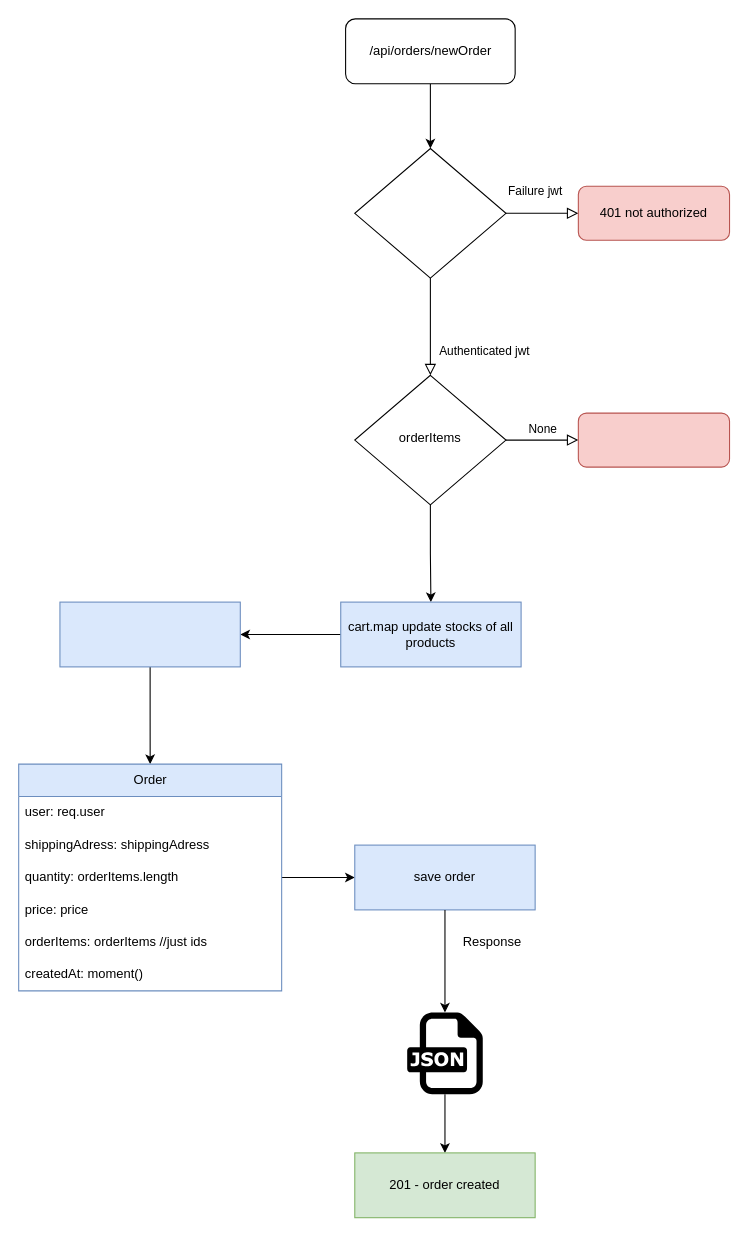
The diagram is 750 pixels wide and 1237 high, and some of its shapes have lost their labels. The centre of each missing label's shape, as x and y in pixels:
"400 invalid order" belongs at point 653,439.
"authMiddleware" belongs at point 430,212.
"Create new order" belongs at point 149,634.
